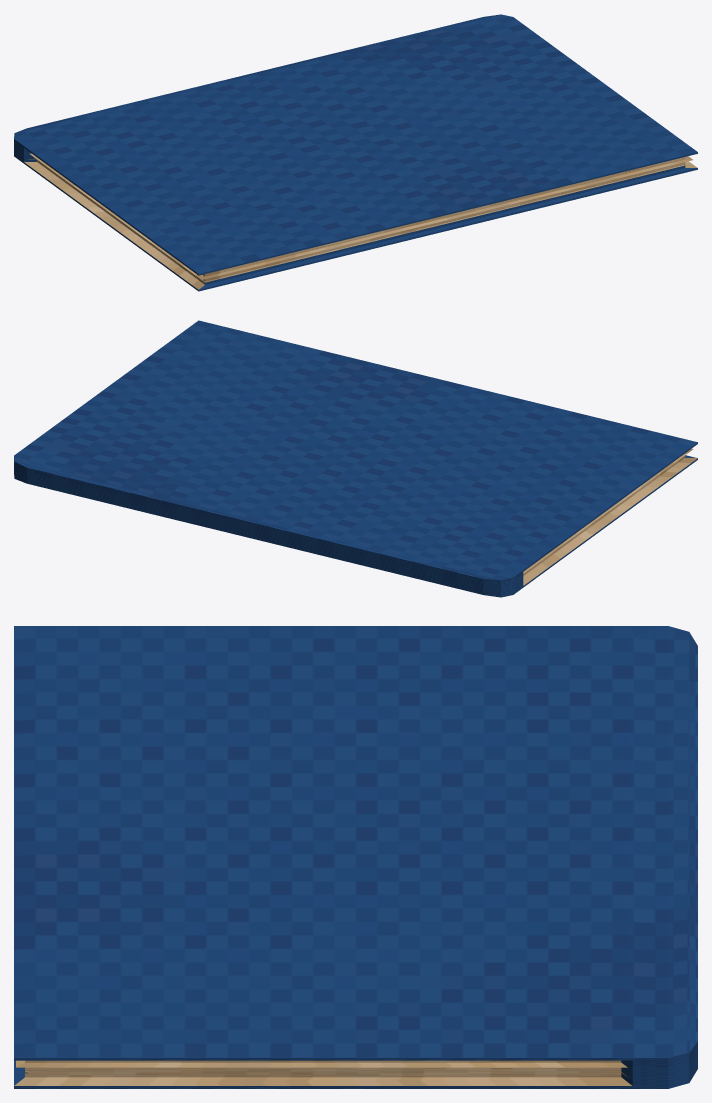
The model's file is Libro_4_Blue.fbx.
3 views of the same model, one above another, from view 1: azimuth 30°, elevation 25°; view 2: azimuth 150°, elevation 25°; view 3: azimuth 270°, elevation 25° (orthographic). The views are drawn at different scales.
Visible parts, largest first — view 1: Cube.012; view 2: Cube.012; view 3: Cube.012.
Part boxes in pixels (bbox=[...]): Cube.012: bbox=[14, 14, 697, 291]; Cube.012: bbox=[14, 320, 697, 597]; Cube.012: bbox=[14, 626, 697, 1088].
Size of the model in its own units: 0.2293 by 0.00796 by 0.1535.
Materials: 2 (2 with a texture image).
